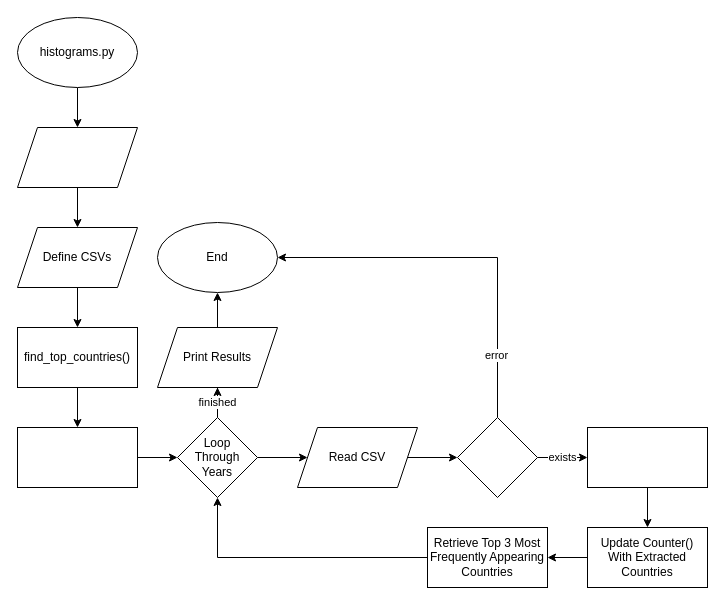
Image size: 725x605. Some labels were removed from this diagram. Each missing label, with the centre of its shape:
"Check If Country Column Exists" goes at point (497, 457).
"Extract Top 3 Countries From Datasets" goes at point (647, 457).
"import pandas" goes at point (77, 157).
"Initialise Counter() to Track Country Appearances" goes at point (77, 457).
